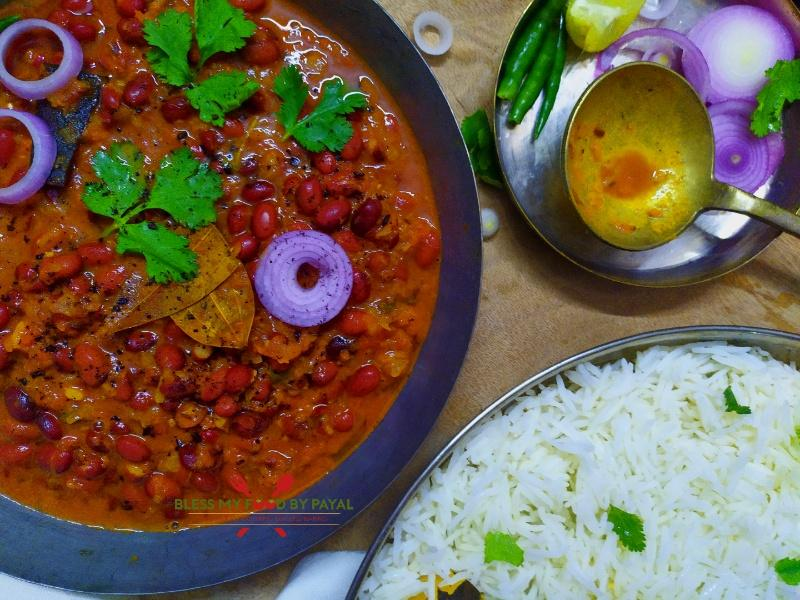rajma: (3, 2, 402, 540)
rice: (453, 360, 800, 600)
